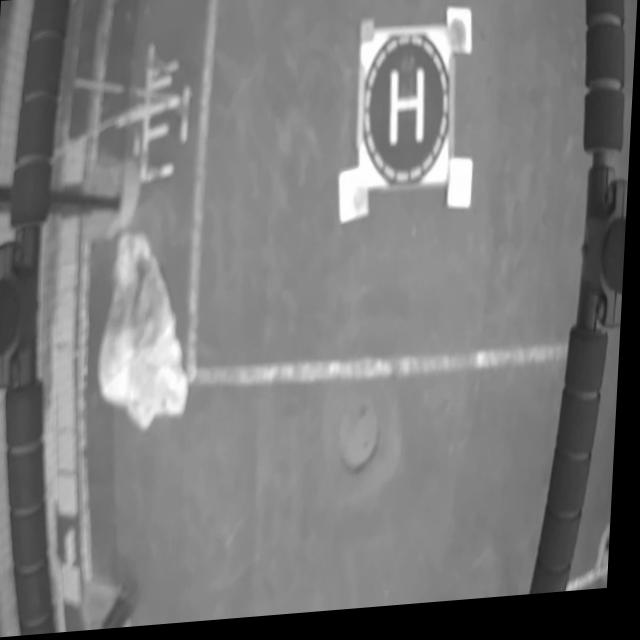Helipad: (389, 74, 425, 152)
